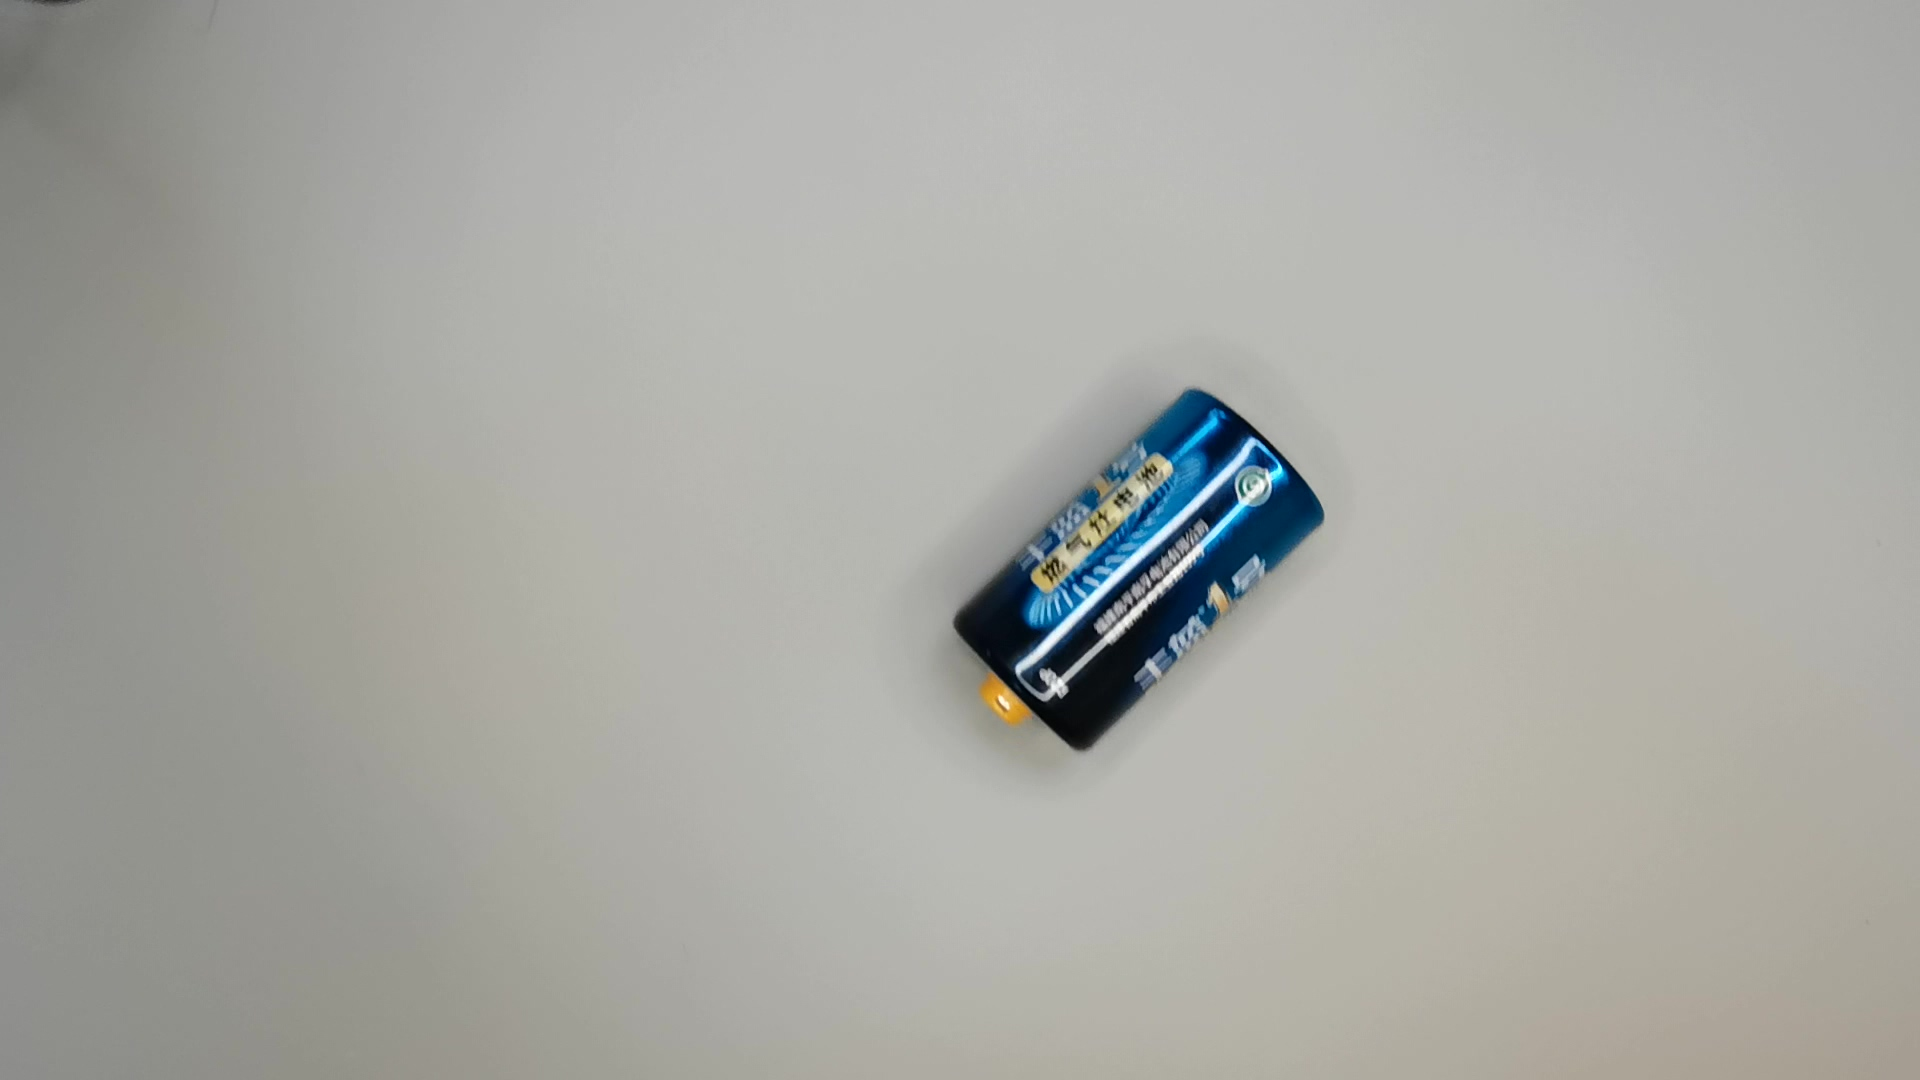battery: (947, 378, 1331, 765)
